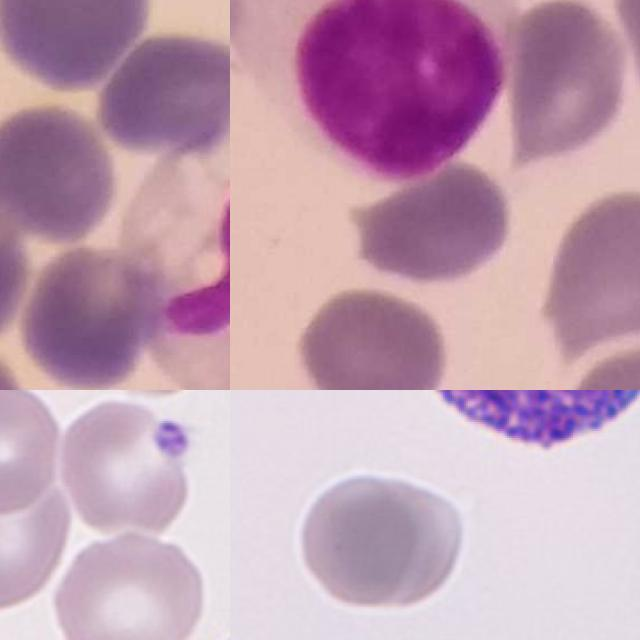Lymphocyte: (239, 0, 521, 182), (393, 390, 640, 470)
Monocyte: (131, 86, 230, 390)
Platelets: (149, 416, 196, 463)
RBC: (292, 463, 468, 616), (54, 394, 198, 538), (49, 526, 210, 640), (0, 468, 73, 612), (0, 390, 65, 520), (78, 390, 227, 400)
